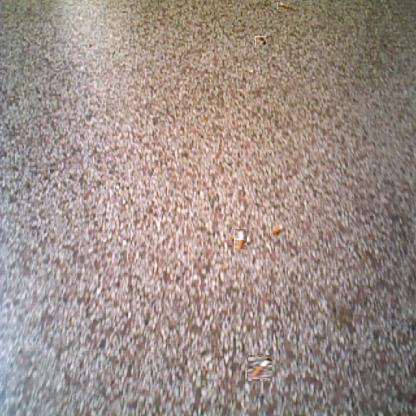dirty: (247, 356, 272, 380), (232, 231, 250, 248), (270, 222, 285, 236), (255, 36, 266, 47), (277, 1, 290, 9)
